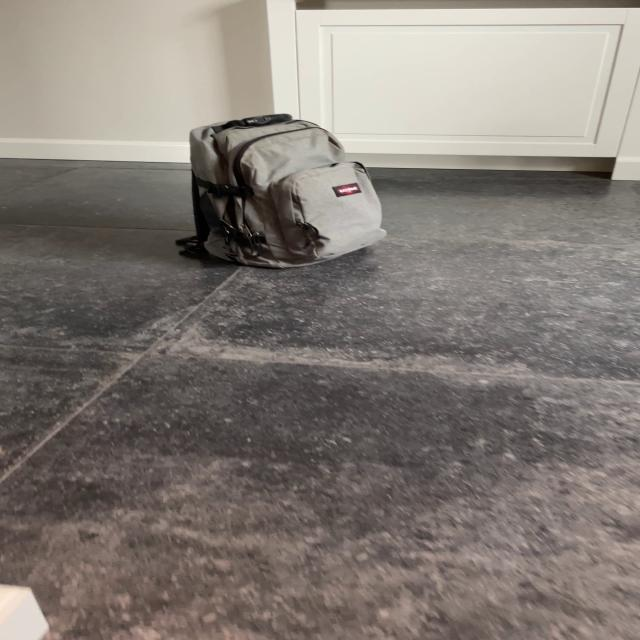backpack: (173, 107, 394, 275)
